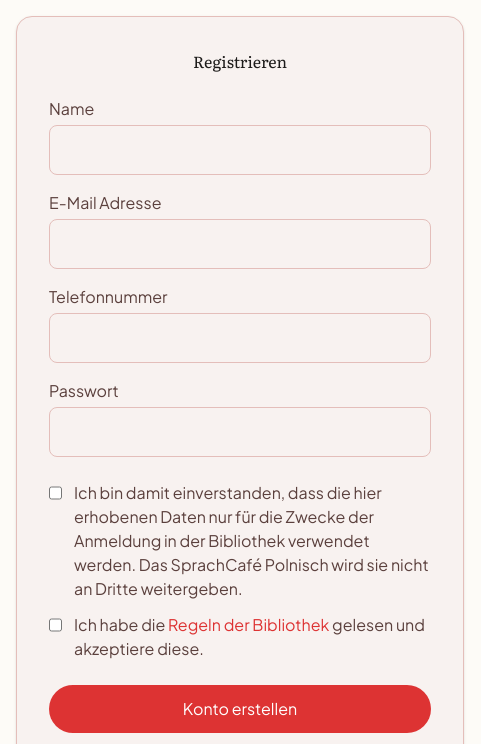
Test: Register Component › shows error if checkboxes are not checked even if fields are filled
The width and height of the screenshot is (481, 744).
In the field labelled "Name": (240, 150) [49,125,431,175], type "John Doe"
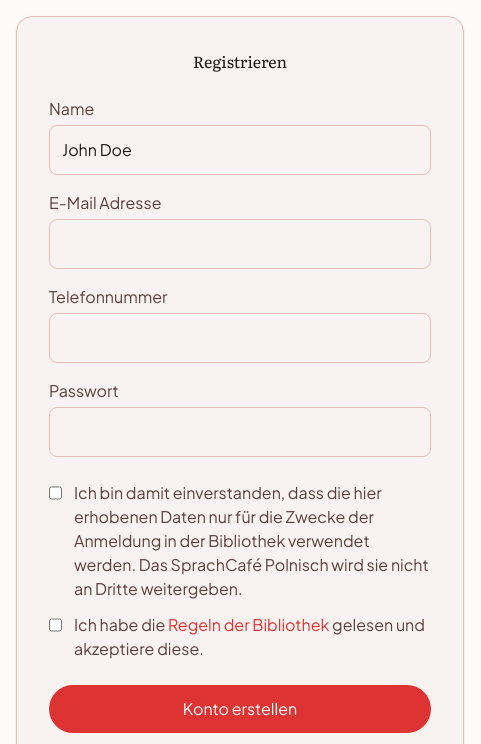
In the field labelled "E-Mail Adresse": (240, 244) [49,219,431,269], type "john@example.com"
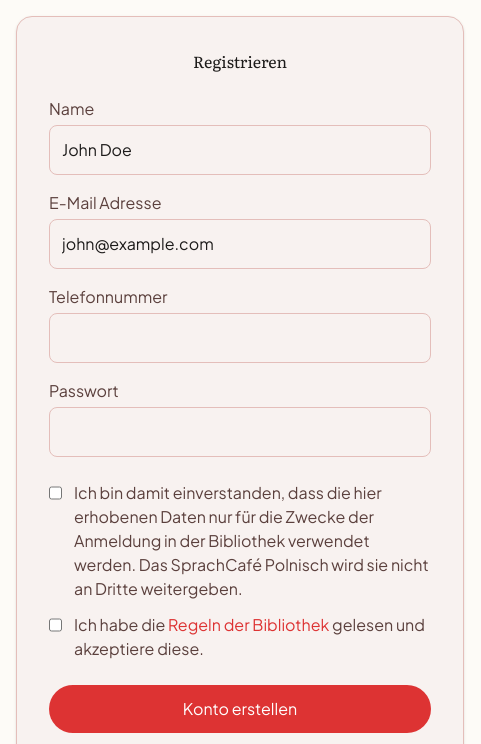
In the field labelled "Telefonnummer": (240, 338) [49,313,431,363], type "123456789"
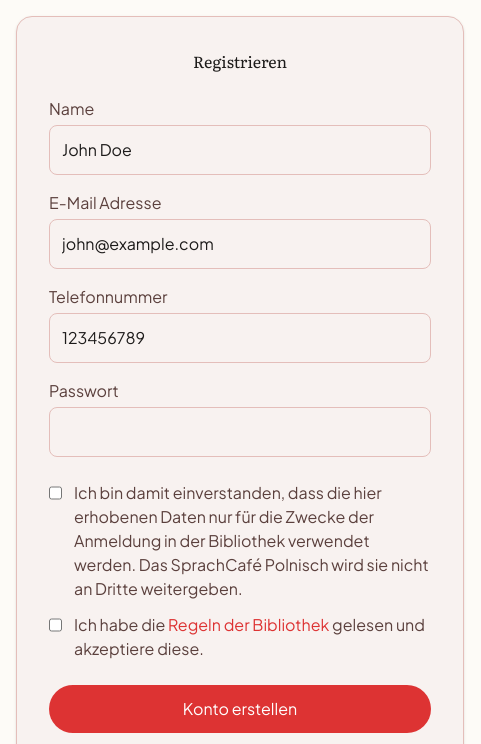
In the password field labelled "Passwort": (240, 432) [49,407,431,457], type "password123"
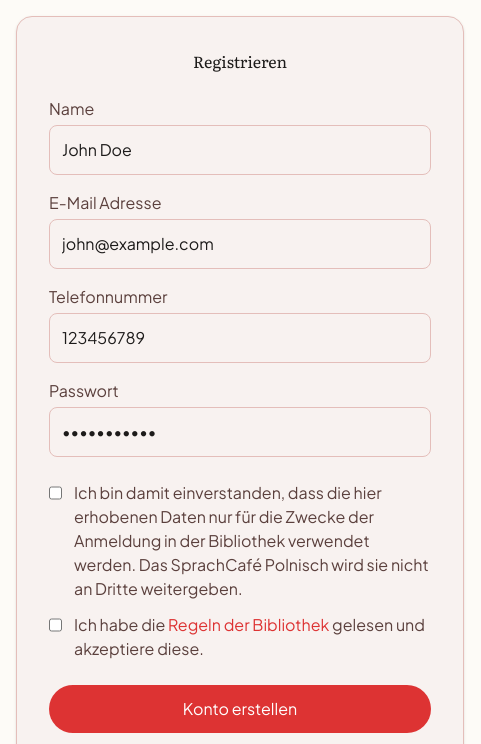
Click the button "Konto erstellen": (240, 709) [49,685,431,733]
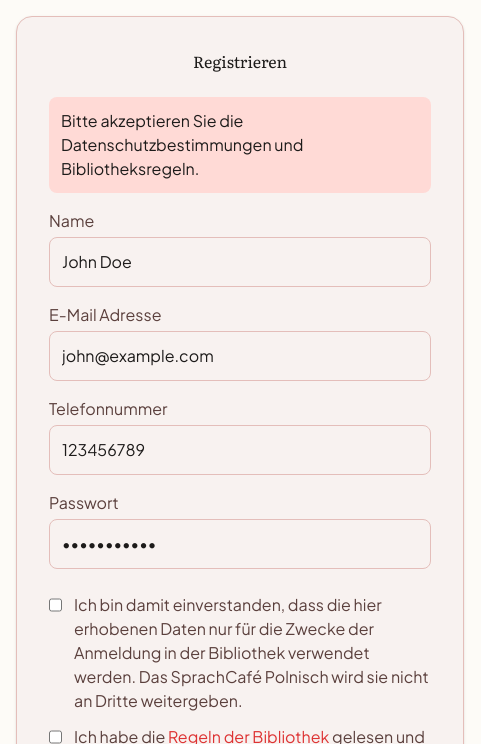
expect the text "Bitte akzeptieren Sie die Datenschutzbestimmungen und Bibliotheksregeln" is shown: met, box [61,110,303,179]
